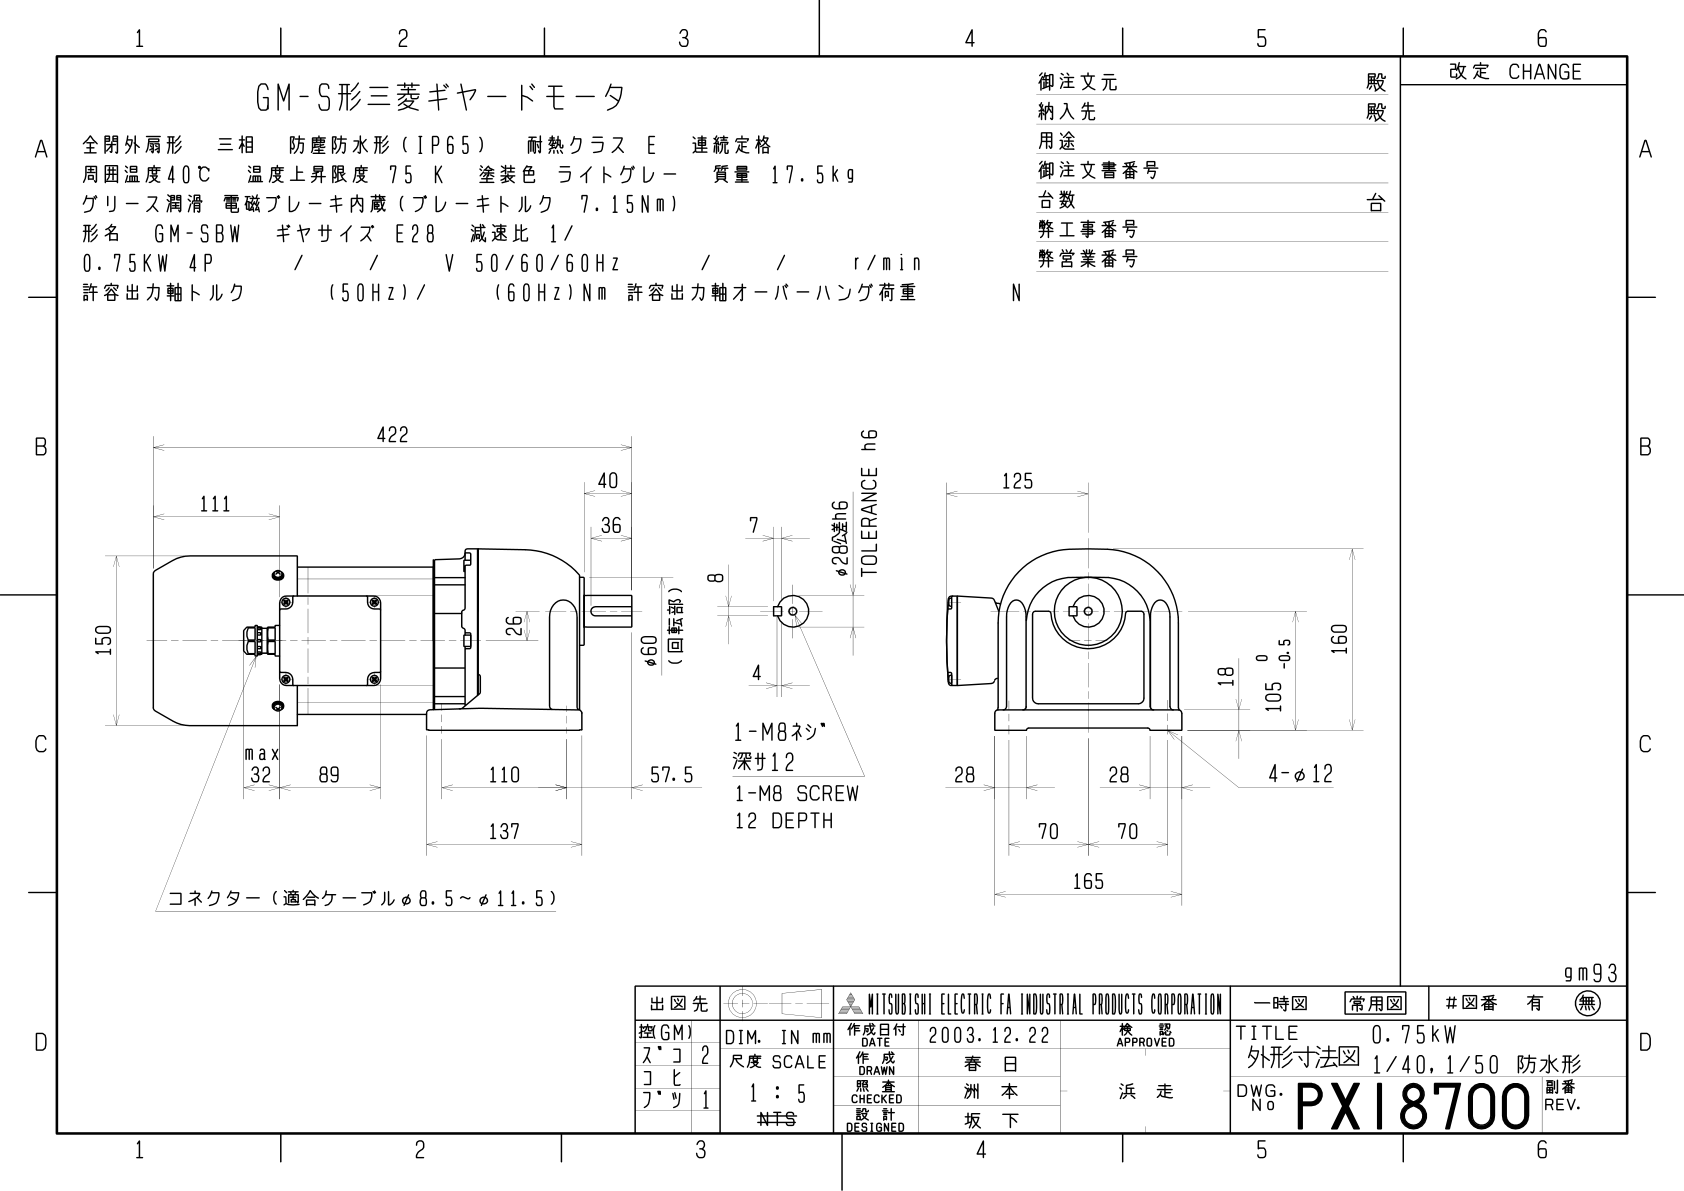GM_S_IP65＿三相_脚: (12, 13, 1684, 1191)
